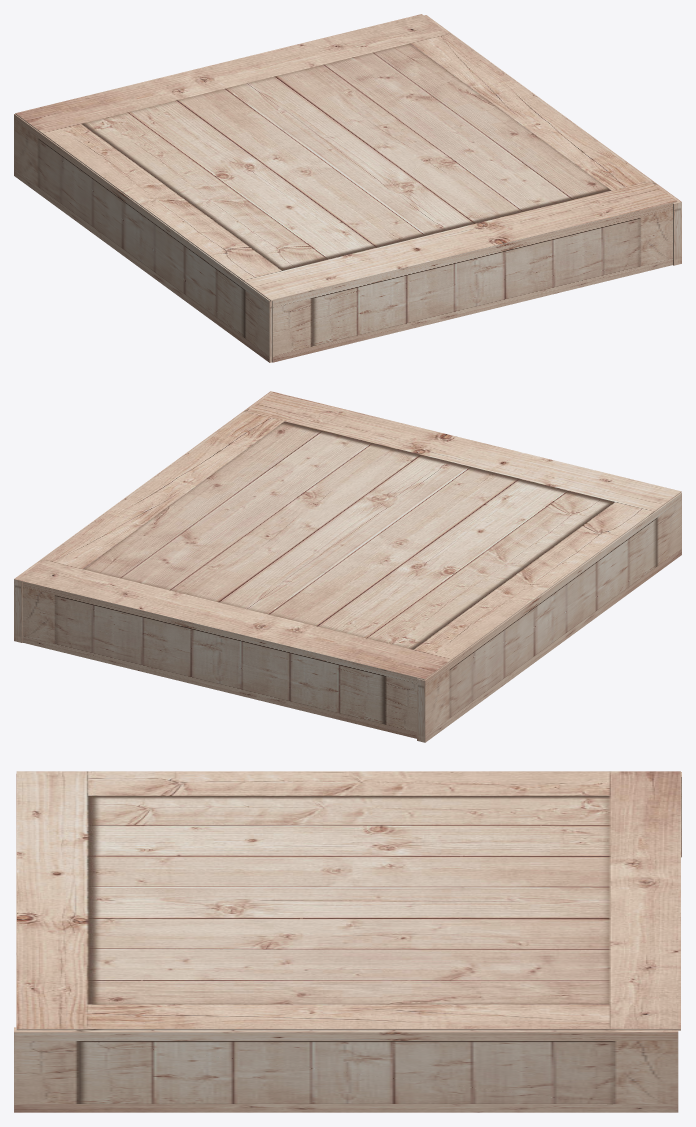
The model's file is tapa.obj.
The picture shows the model from 3 angles, top to bottom: view 1: azimuth 30°, elevation 25°; view 2: azimuth 150°, elevation 25°; view 3: azimuth 270°, elevation 25°; orthographic projection. The views are drawn at different scales.
Visible parts, largest first — view 1: tapa:pCube42; view 2: tapa:pCube42; view 3: tapa:pCube42.
Part boxes in pixels (x1,y1,x2,y2): tapa:pCube42: (14,14,681,362); tapa:pCube42: (14,391,681,742); tapa:pCube42: (14,771,681,1112).
Bounding box in the file's own units: 0.2643 × 0.0386 × 0.2865.
1 material, 1 textured.
